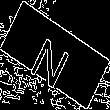N_NE: (30, 23, 80, 87)
